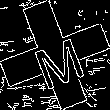M_N: (25, 23, 85, 87)
